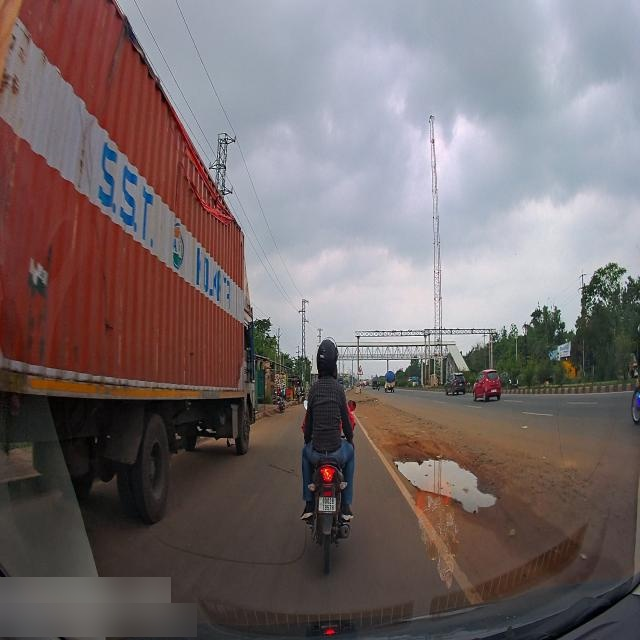pothole: (392, 448, 508, 540)
